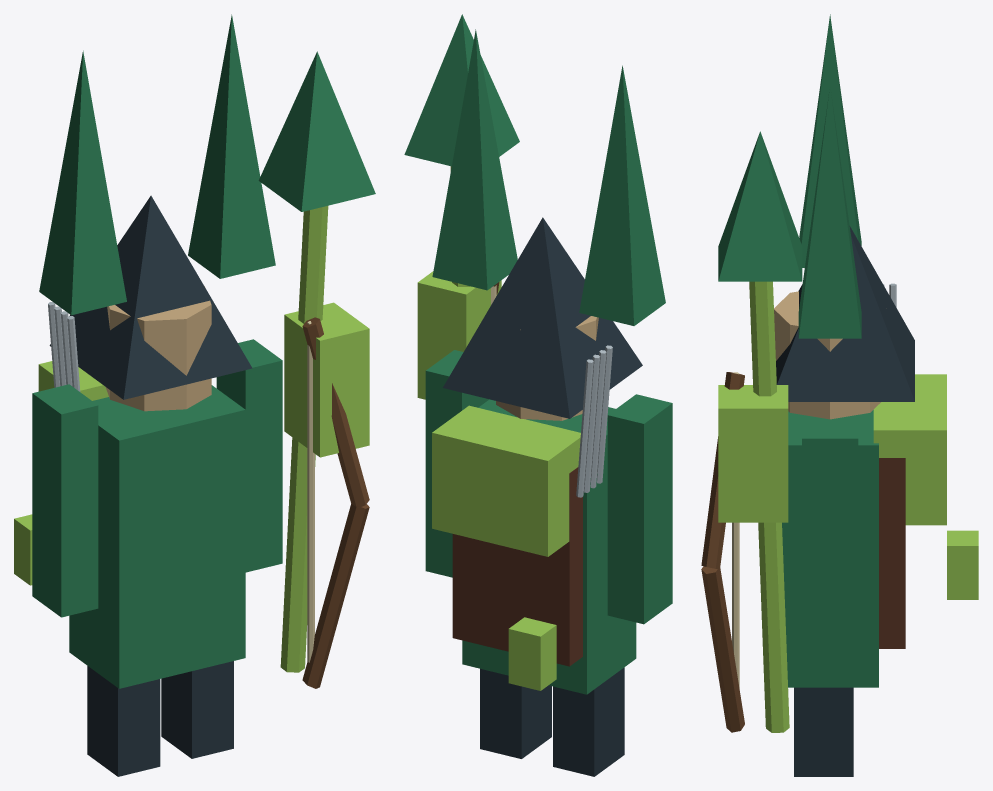
Rendered from scout.obj.
The picture shows the model from 3 angles, left to right: view 1: azimuth 30°, elevation 25°; view 2: azimuth 150°, elevation 25°; view 3: azimuth 270°, elevation 25°; orthographic projection. The views are drawn at different scales.
Parts seen in each view (by area): view 1: ranged; view 2: ranged; view 3: ranged.
Boxes of the visible parts, x1,y1,x2,y2 form: ranged: (14, 14, 375, 776); ranged: (404, 14, 672, 776); ranged: (701, 14, 978, 776).
Size of the model in its own units: 0.877 by 2.21 by 0.7936.
